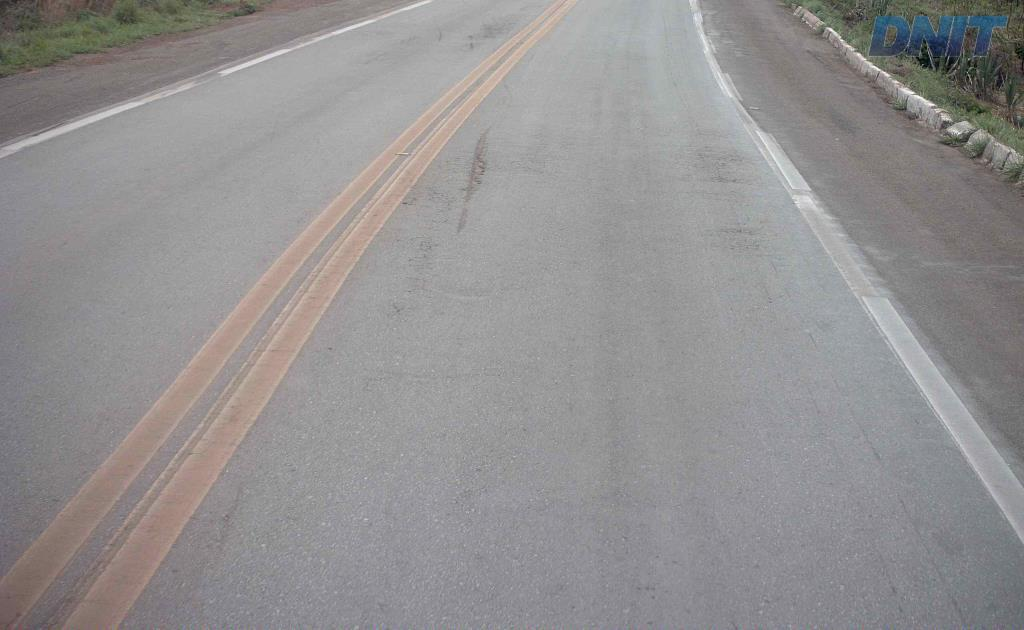crack: (461, 137, 489, 202)
